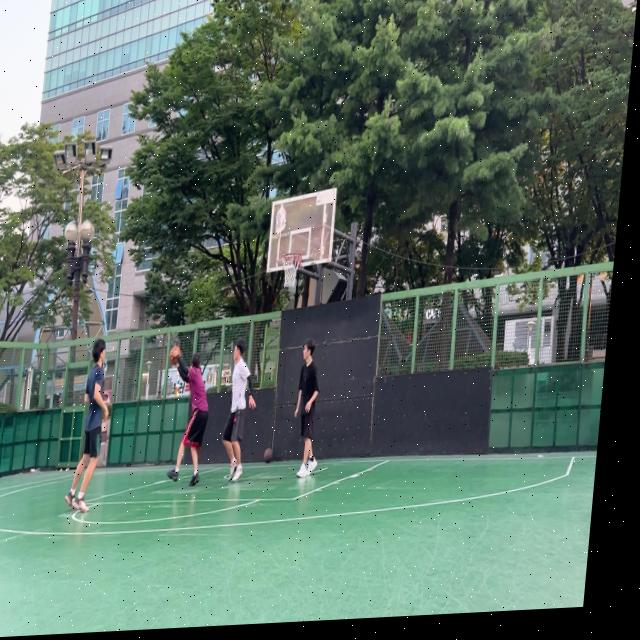basketball: (169, 346, 181, 366), (263, 447, 274, 464)
hoop: (279, 252, 302, 288)
